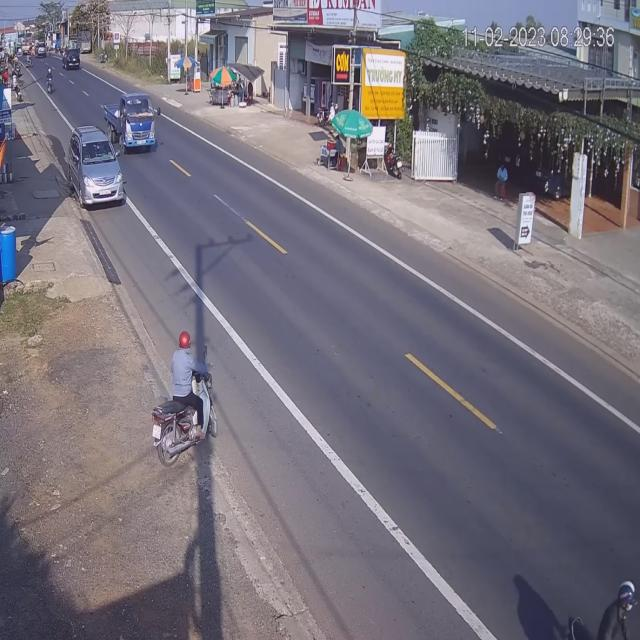car: (68, 127, 124, 209), (65, 50, 81, 72)
motorbike: (156, 332, 216, 460), (563, 574, 640, 638)
truck: (109, 92, 158, 156)
